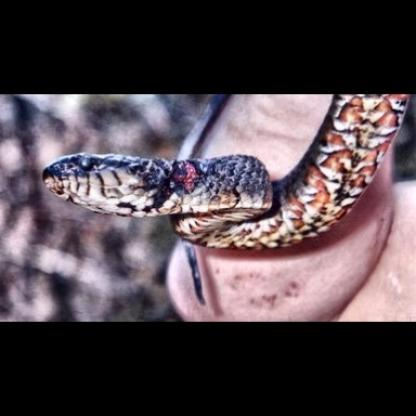Snake: (19, 125, 414, 302)
